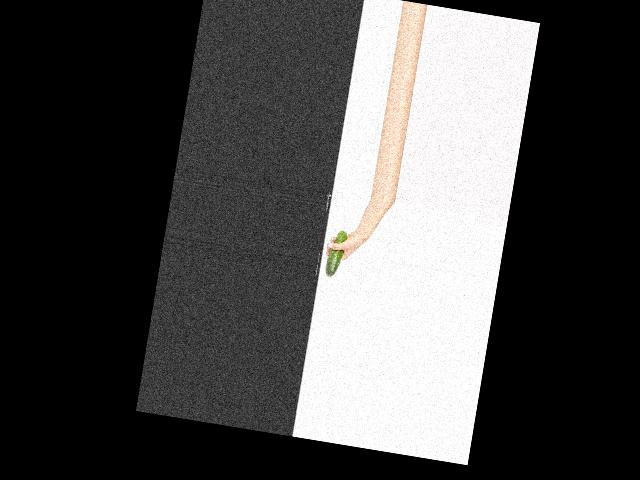cucumber: (323, 229, 347, 279)
